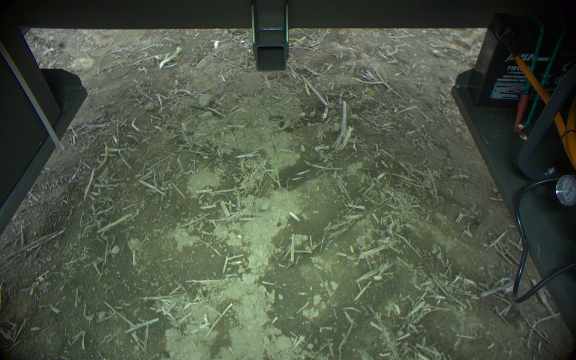aspa: (270, 144, 281, 191)
